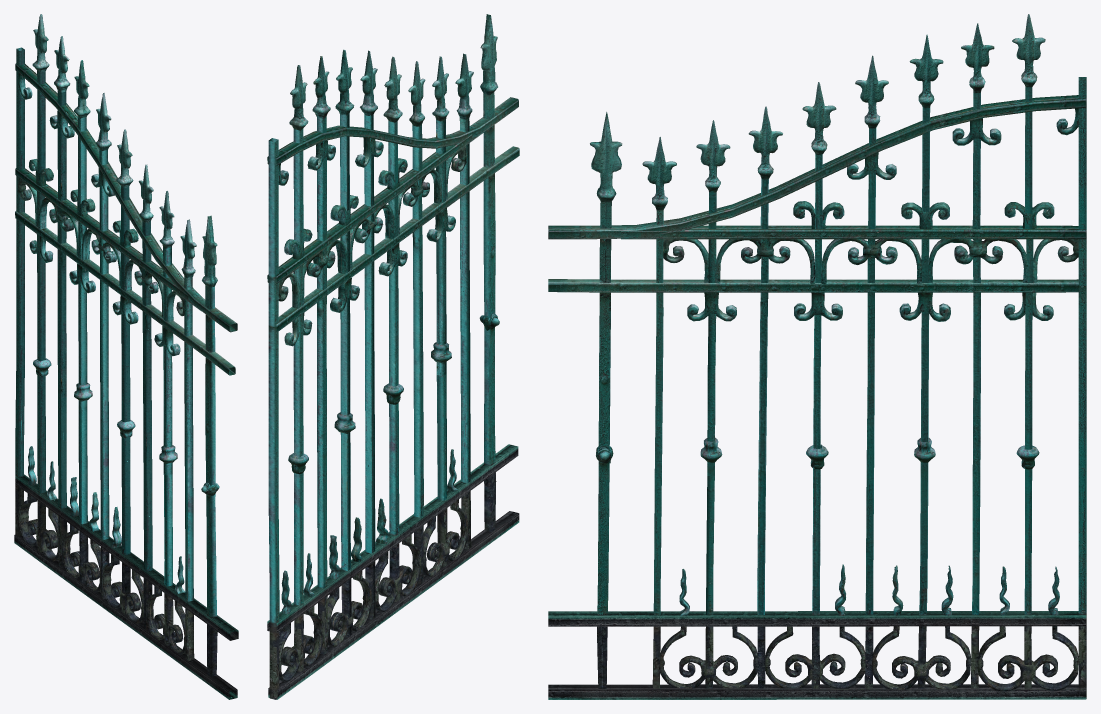
File: sm_OldFence_02_05_Gate.fbx
3 views of the same model, side by side, from view 1: azimuth 30°, elevation 25°; view 2: azimuth 150°, elevation 25°; view 3: azimuth 270°, elevation 25° (orthographic). The views are drawn at different scales.
Parts seen in each view (by area): view 1: sm_OldFence_02_05_Gate_LOD0; view 2: sm_OldFence_02_05_Gate_LOD0; view 3: sm_OldFence_02_05_Gate_LOD0.
Part boxes in pixels (x1,y1,x2,y2): sm_OldFence_02_05_Gate_LOD0: (14, 14, 238, 699); sm_OldFence_02_05_Gate_LOD0: (267, 14, 519, 699); sm_OldFence_02_05_Gate_LOD0: (548, 14, 1086, 699).
Bounding box in the file's own units: 8.33 × 180 × 252.
